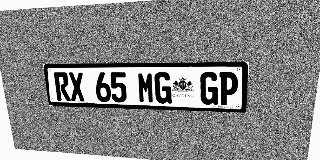5: (110, 72, 127, 102)
6: (94, 72, 112, 102)
G: (200, 72, 219, 105), (154, 72, 171, 104)
M: (137, 72, 154, 103)
P: (218, 72, 239, 105)
R: (53, 72, 71, 101)
X: (68, 72, 85, 101)
